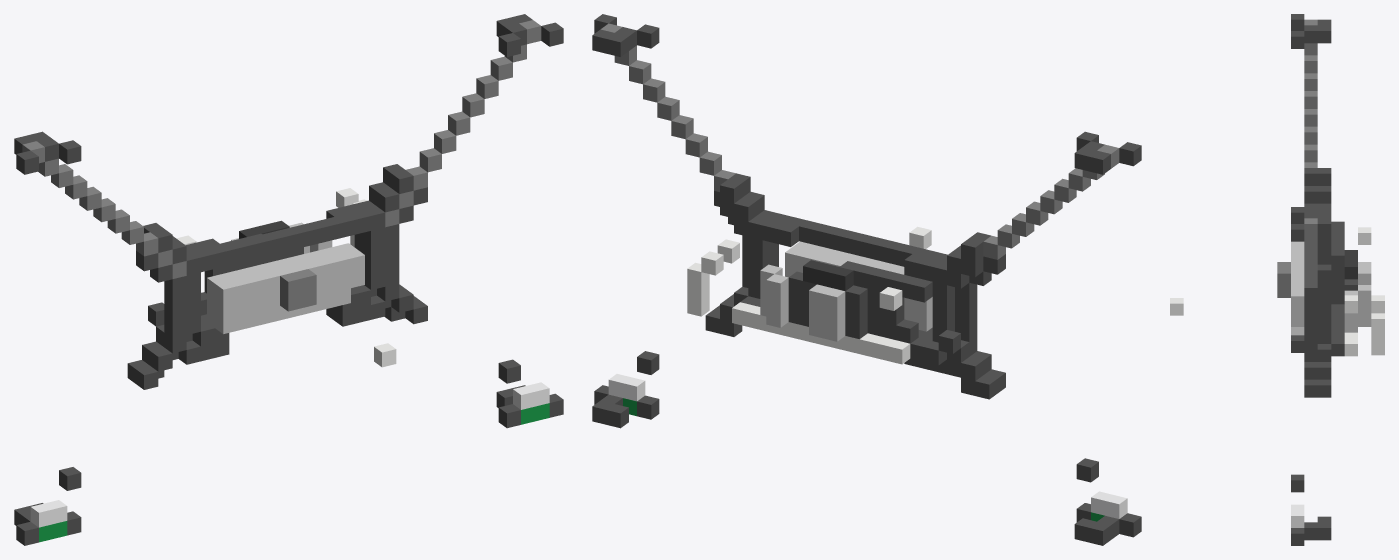
Rendered from Drone 3.glb.
The picture shows the model from 3 angles, left to right: view 1: azimuth 30°, elevation 25°; view 2: azimuth 150°, elevation 25°; view 3: azimuth 270°, elevation 25°; orthographic projection. The views are drawn at different scales.
Parts seen in each view (by area): view 1: Node12, Node24, Node26, Node14, Node1, Node13, Node25, Node16; view 2: Node12, Node26, Node1, Node24, Node14, Node25, Node13, Node23; view 3: Node12, Node24, Node14, Node26, Node25, Node1, Node13, Node23.
Boxes of the visible parts, box(x1,y1,x2,y2) form: Node12: box(16, 22, 563, 545); Node24: box(22, 20, 541, 311); Node26: box(14, 14, 532, 525); Node14: box(207, 222, 364, 334); Node1: box(193, 210, 563, 428); Node13: box(30, 382, 549, 527); Node25: box(176, 188, 396, 367); Node16: box(39, 403, 549, 542); Node12: box(592, 14, 1141, 539); Node26: box(592, 29, 1110, 545); Node1: box(594, 213, 947, 419); Node24: box(601, 23, 1119, 259); Node14: box(760, 241, 932, 341); Node25: box(687, 226, 931, 364); Node13: box(608, 374, 1127, 518); Node23: box(803, 260, 853, 291); Node12: box(1291, 14, 1344, 540); Node24: box(1277, 19, 1317, 297); Node14: box(1291, 241, 1371, 332); Node26: box(1304, 19, 1331, 264); Node25: box(1170, 227, 1384, 356); Node1: box(1291, 209, 1357, 545); Node13: box(1291, 327, 1304, 527); Node23: box(1344, 250, 1357, 279).
Bounding box in the file's own units: 672 × 459 × 283.
